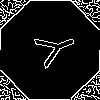Y: (25, 25, 80, 73)
